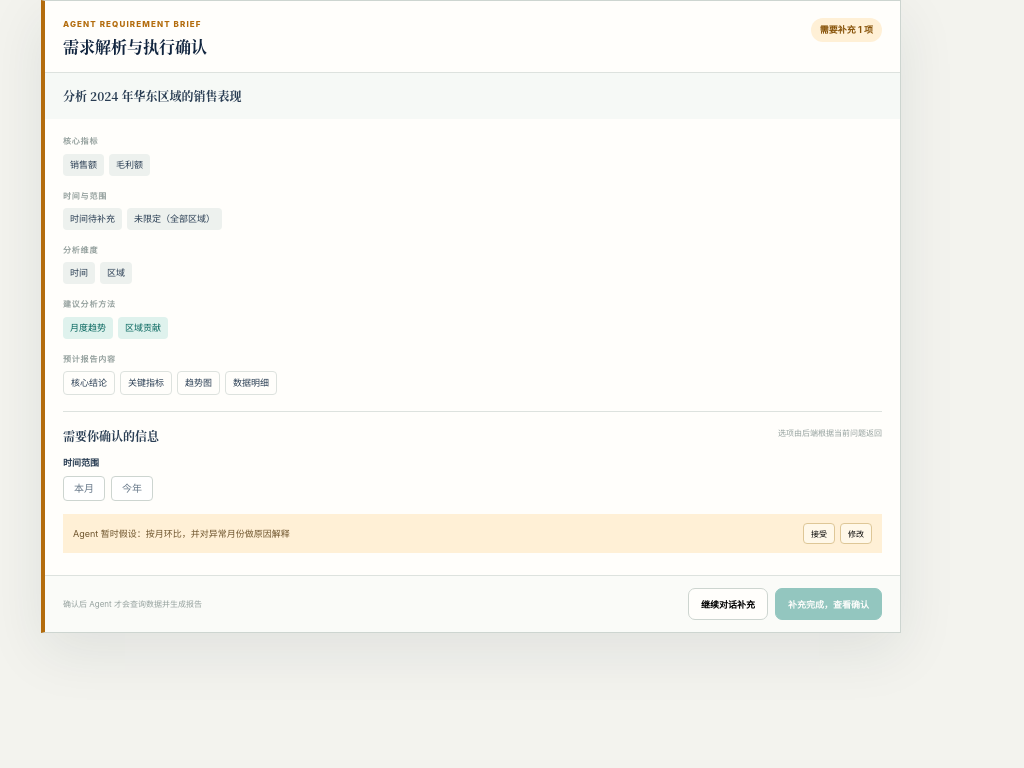
it: RequirementCardView — prototype structure › accepting an assumption flips the mini-btn to ✓ 已接受
The image size is (1024, 768).
What coordinates should you click on to do the following:
click the button "接受"
I would click on:
 (819, 534)
Its box is [803,523,835,544].
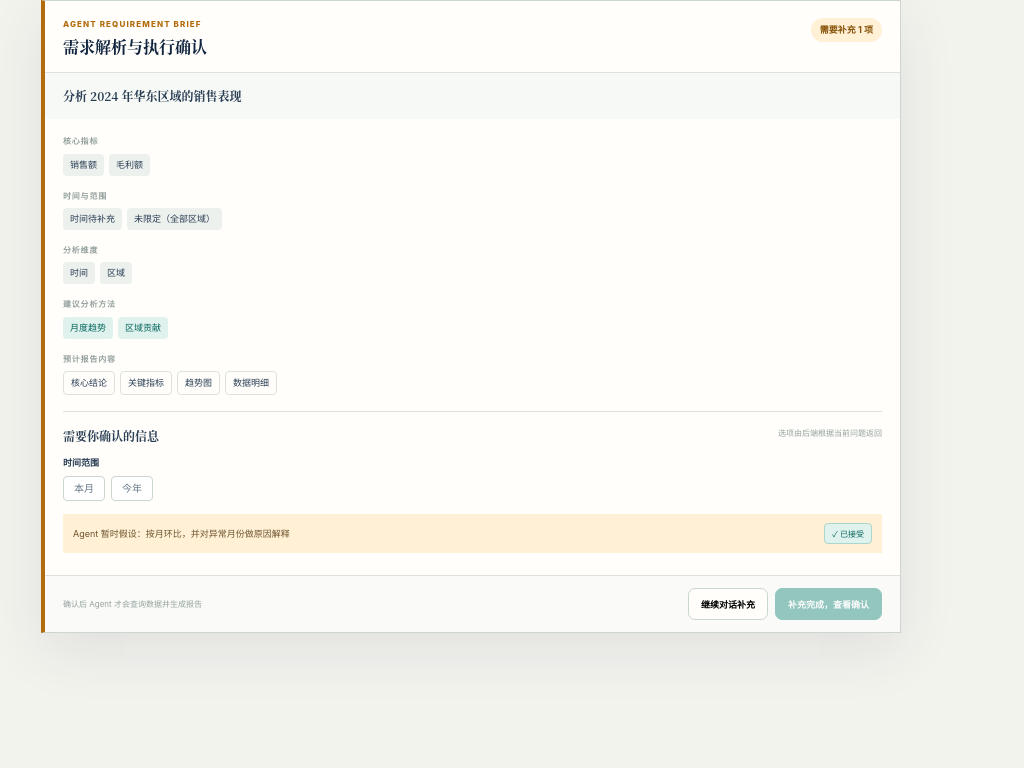
Now the button "✓ 已接受" is shown, box [824,523,872,544]
